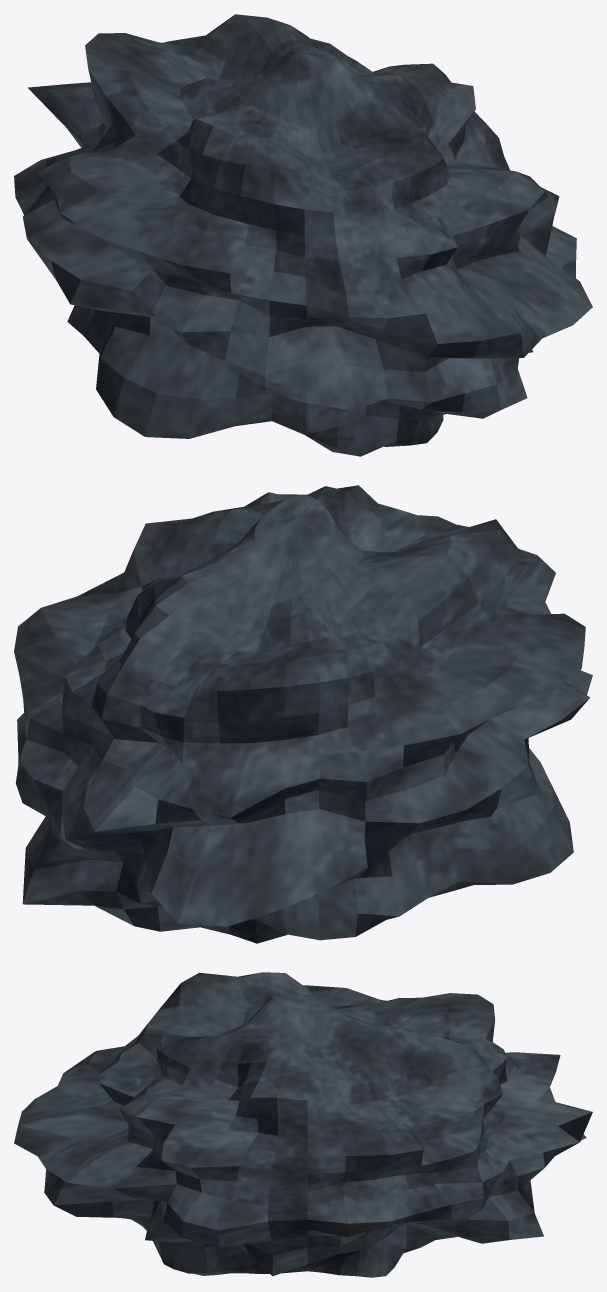
Rendered from asteroide-fragmento.glb.
The picture shows the model from 3 angles, top to bottom: view 1: azimuth 30°, elevation 25°; view 2: azimuth 150°, elevation 25°; view 3: azimuth 270°, elevation 25°; orthographic projection. The views are drawn at different scales.
Parts seen in each view (by area): view 1: Asteroide · fragmento; view 2: Asteroide · fragmento; view 3: Asteroide · fragmento.
Part boxes in pixels (bbox=[...]): Asteroide · fragmento: bbox=[14, 14, 592, 456]; Asteroide · fragmento: bbox=[14, 485, 592, 943]; Asteroide · fragmento: bbox=[14, 972, 592, 1277].
Bounding box in the file's own units: 2.06 × 1.49 × 2.92.
1 material, 1 textured.
